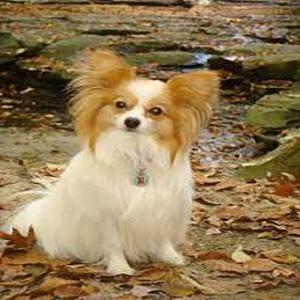yell: (0, 50, 220, 273)
